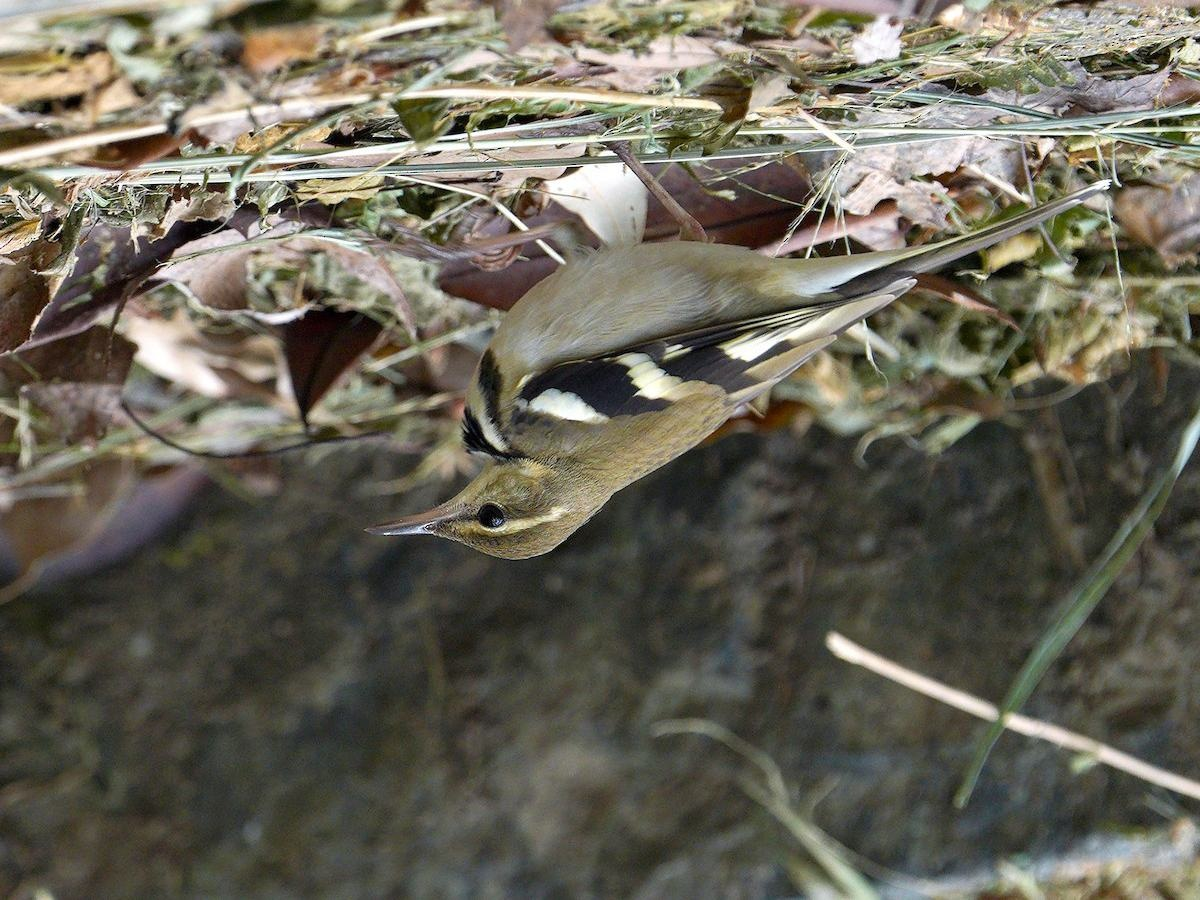wagtail: (350, 198, 1021, 585)
